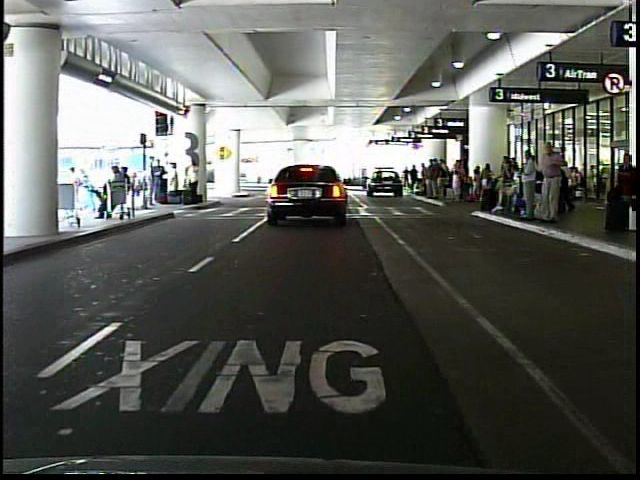person: (533, 136, 571, 230), (604, 151, 635, 230), (518, 147, 537, 223), (71, 161, 95, 218), (152, 157, 167, 205), (169, 160, 184, 203), (186, 158, 200, 203), (403, 165, 412, 192)
